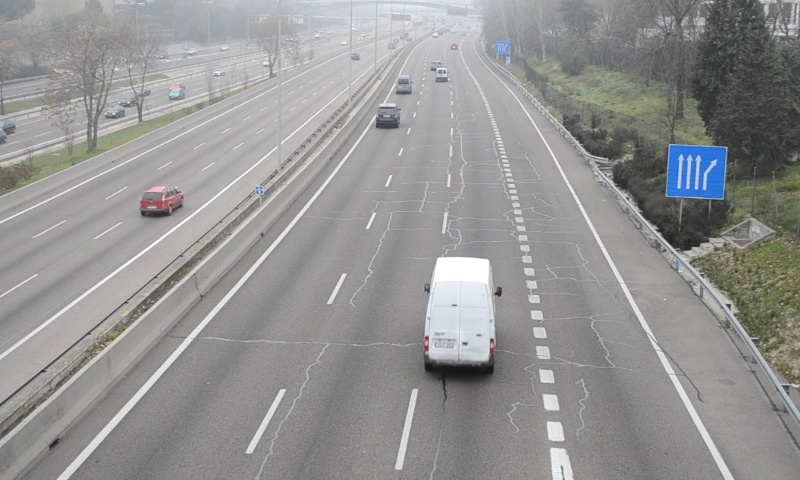car: (375, 103, 401, 129)
van: (422, 257, 496, 372), (395, 74, 412, 93)
